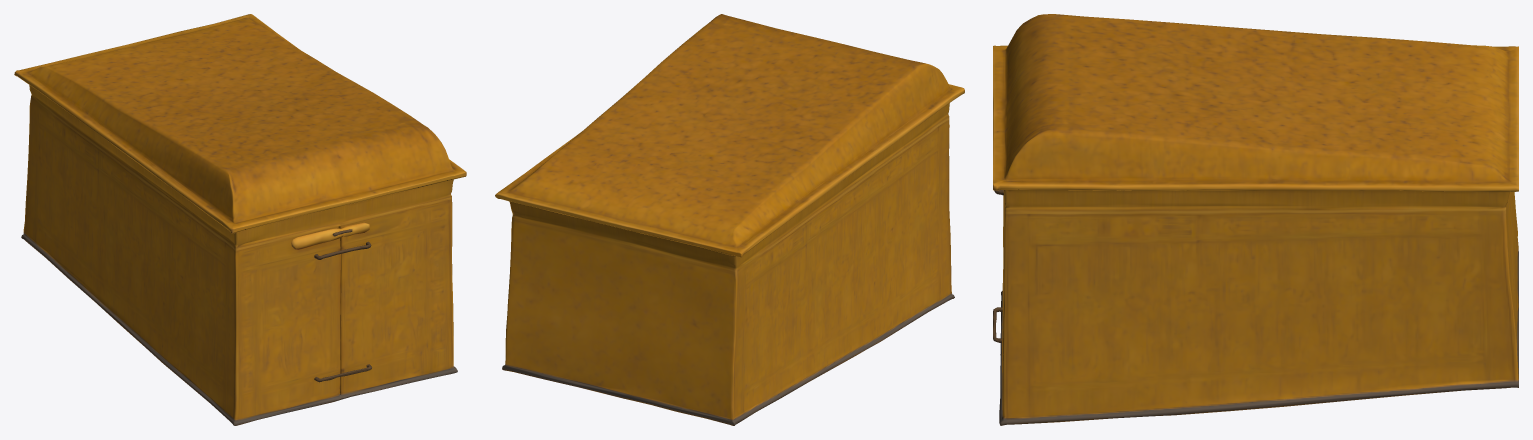
Rendered from burial-shrine-237-ai.glb.
The picture shows the model from 3 angles, left to right: view 1: azimuth 30°, elevation 25°; view 2: azimuth 150°, elevation 25°; view 3: azimuth 270°, elevation 25°; orthographic projection. The views are drawn at different scales.
Visible parts, largest first — view 1: geometry_0; view 2: geometry_0; view 3: geometry_0.
Boxes of the visible parts, left/top/right/bottom form: geometry_0: left=14, top=14, right=466, bottom=425; geometry_0: left=495, top=14, right=964, bottom=425; geometry_0: left=993, top=14, right=1518, bottom=425.
Bounding box in the file's own units: 0.6366 × 0.6047 × 1.
Materials: 1 (1 with a texture image).
